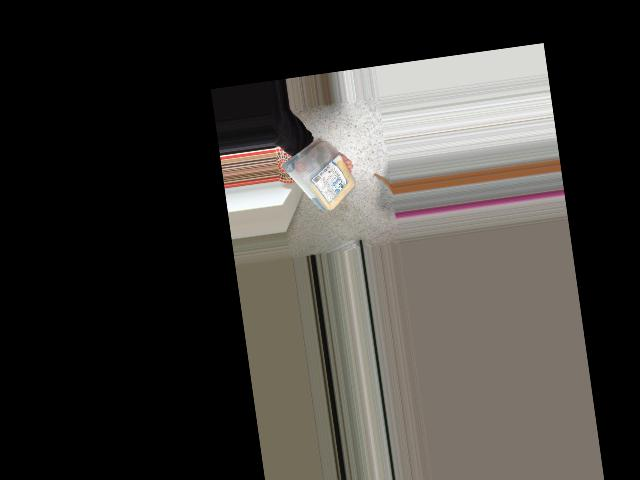cheese: (290, 140, 357, 213)
